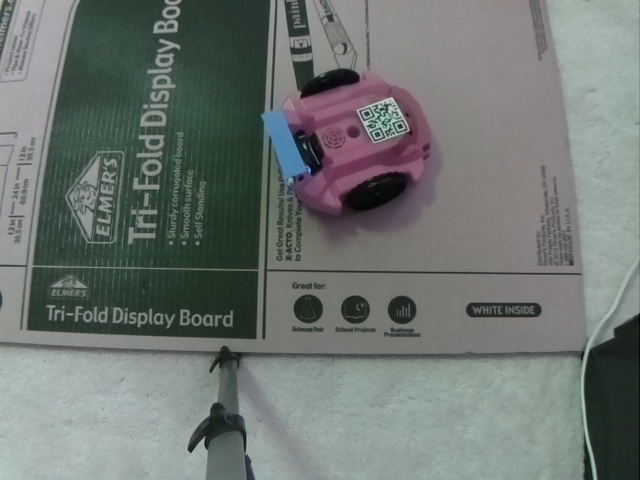board: (261, 106, 320, 185)
chassis: (261, 60, 444, 223)
